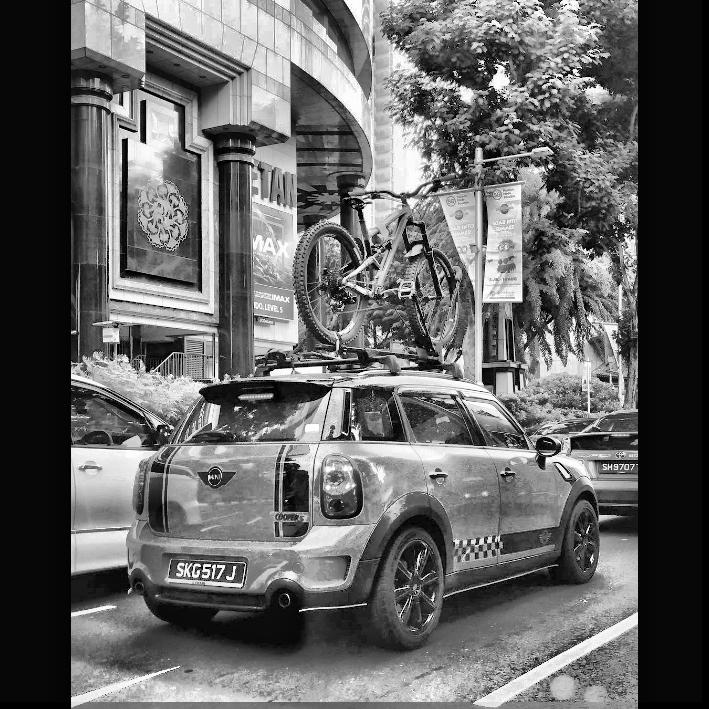License-Plates: (167, 560, 244, 584), (599, 462, 637, 470)
